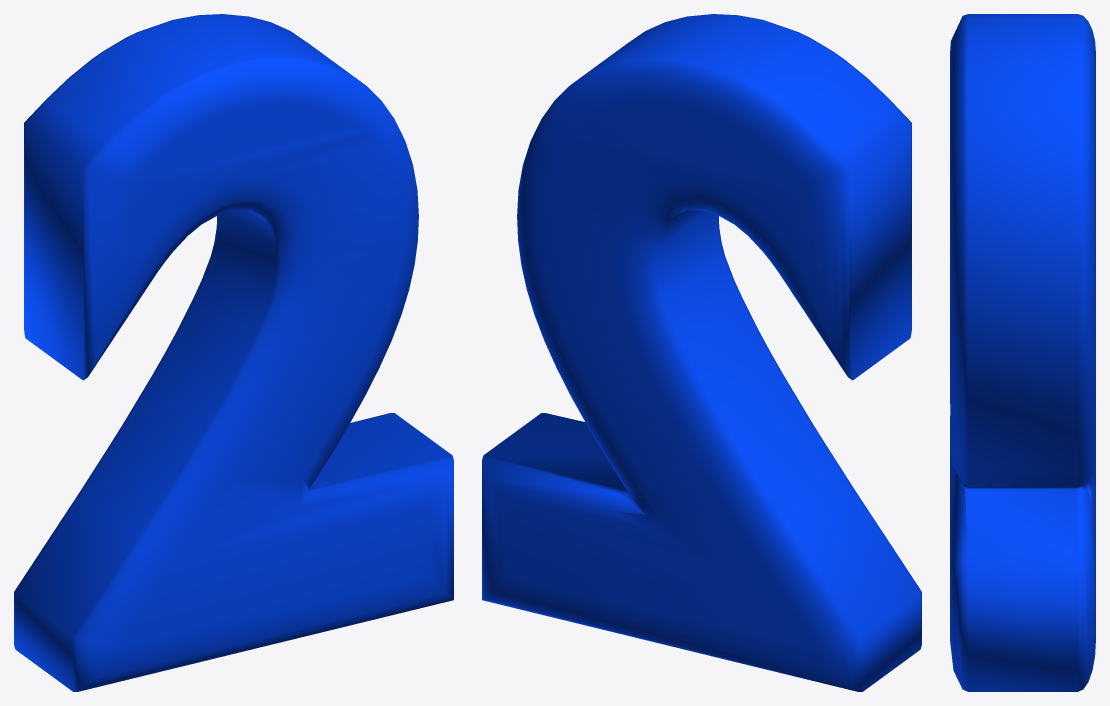
3 renders of one model, left to right at view 1: azimuth 30°, elevation 25°; view 2: azimuth 150°, elevation 25°; view 3: azimuth 270°, elevation 25°, orthographic. The views are drawn at different scales.
Visible parts, largest first — view 1: 2_Numbers003_0; view 2: 2_Numbers003_0; view 3: 2_Numbers003_0.
Boxes of the visible parts, box(x1,y1,x2,y2) form: 2_Numbers003_0: box(14, 14, 453, 691); 2_Numbers003_0: box(482, 14, 921, 691); 2_Numbers003_0: box(950, 14, 1095, 691).
Bounding box in the file's own units: 0.266 × 0.3955 × 0.0938.
